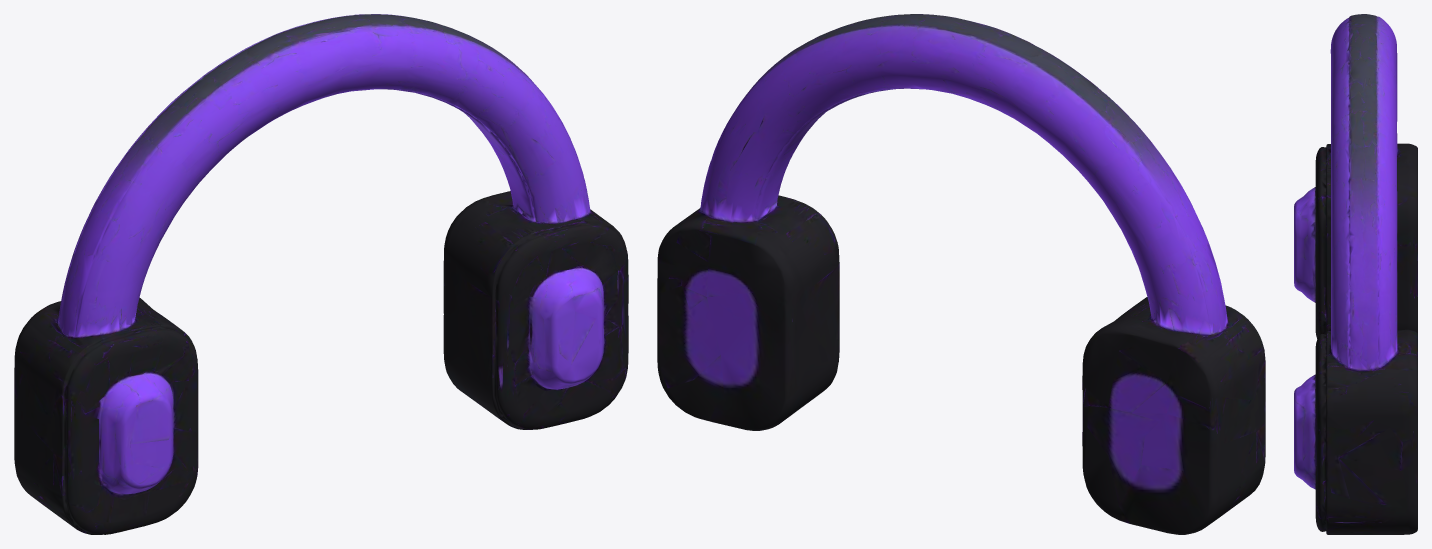
The model's file is headphones.glb.
3 views of the same model, side by side, from view 1: azimuth 30°, elevation 25°; view 2: azimuth 150°, elevation 25°; view 3: azimuth 270°, elevation 25° (orthographic). The views are drawn at different scales.
Size of the model in its own units: 1.9 by 1.4 by 0.405.
1 material, 1 textured.
